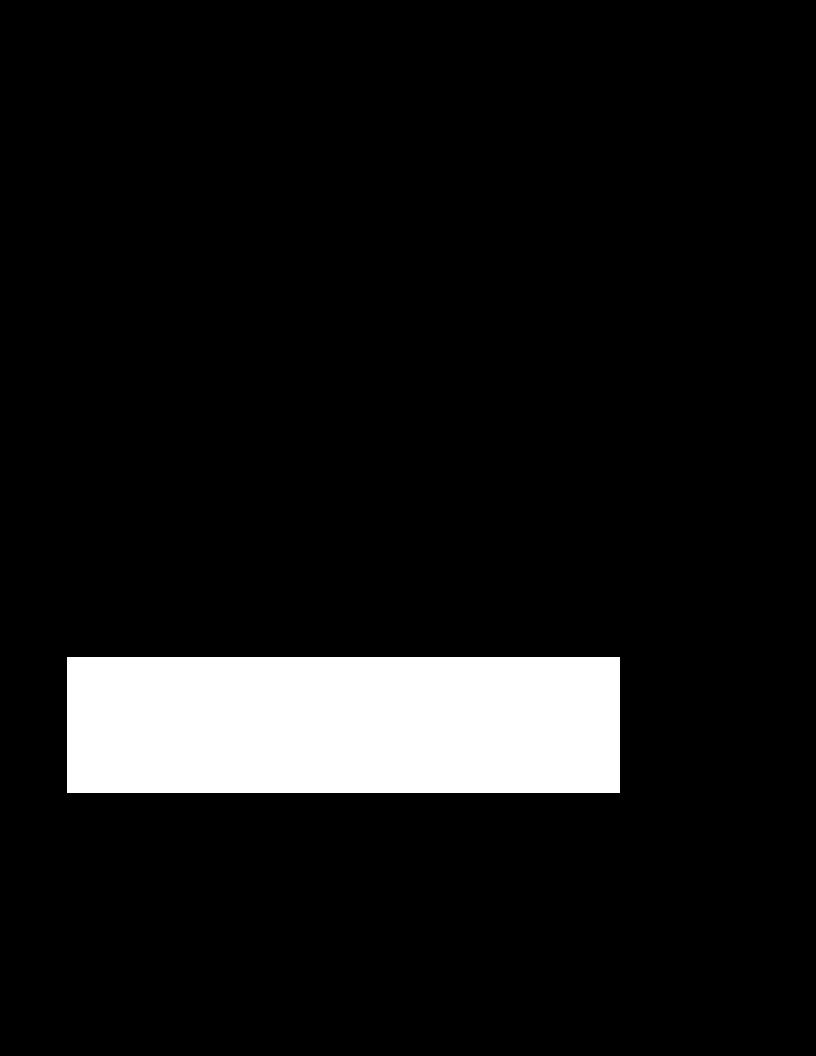table: (67, 657, 619, 792)
